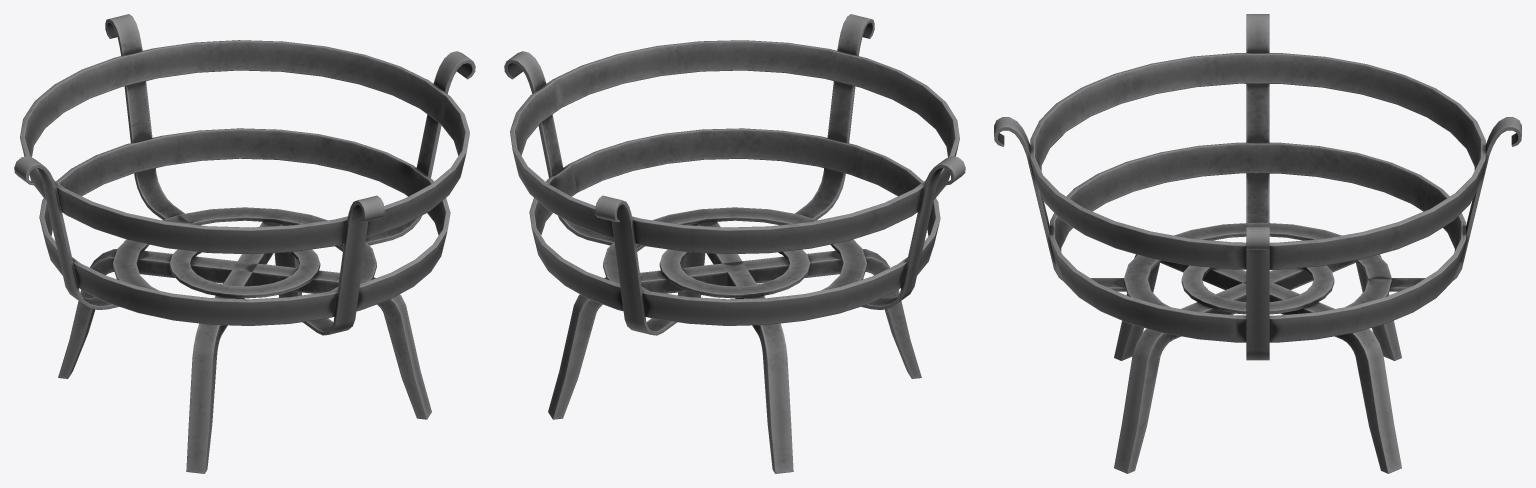
Rendered from Iron_Brazier.glb.
3 views of the same model, side by side, from view 1: azimuth 30°, elevation 25°; view 2: azimuth 150°, elevation 25°; view 3: azimuth 270°, elevation 25° (orthographic).
Parts seen in each view (by area): view 1: iron_brazier_01.001, iron_brazier_01.003, iron_brazier_01, iron_brazier_01.002; view 2: iron_brazier_01.001, iron_brazier_01.003, iron_brazier_01, iron_brazier_01.002; view 3: iron_brazier_01.001, iron_brazier_01.003, iron_brazier_01, iron_brazier_01.002.
Boxes of the visible parts, <box> form: iron_brazier_01.001: <box>20,40,469,325</box>; iron_brazier_01.003: <box>58,221,431,473</box>; iron_brazier_01: <box>14,14,475,335</box>; iron_brazier_01.002: <box>113,207,376,298</box>; iron_brazier_01.001: <box>510,40,959,325</box>; iron_brazier_01.003: <box>548,221,921,473</box>; iron_brazier_01: <box>504,14,965,335</box>; iron_brazier_01.002: <box>603,207,866,298</box>; iron_brazier_01.001: <box>1030,53,1485,342</box>; iron_brazier_01.003: <box>1114,254,1401,473</box>; iron_brazier_01: <box>994,14,1521,360</box>; iron_brazier_01.002: <box>1123,222,1392,314</box>.
Bounding box in the file's own units: 1.08 × 0.6592 × 1.08.
Materials: 1 (1 with a texture image).
